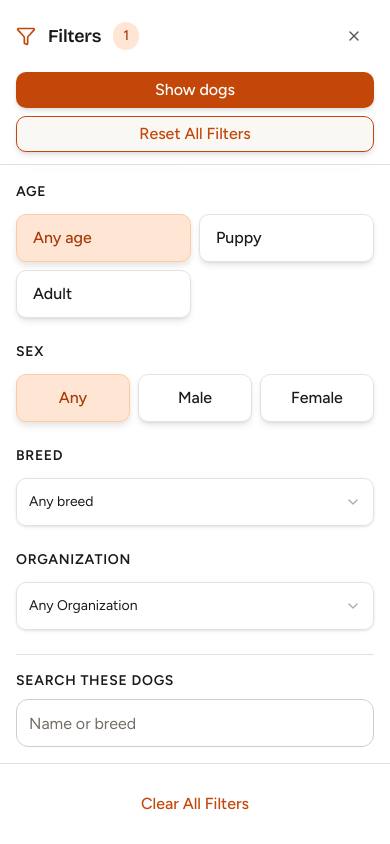
Test: MobileFilterDrawer Component › resetting drops a search that was still waiting to be sent
(page scrolled)
Type "bel" into the search field with test id "search-input" at (195, 723), box [16,699,374,747]
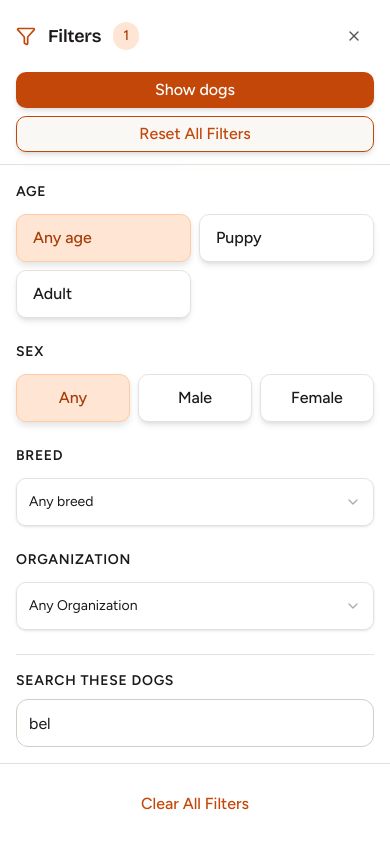
Click the button with test id "clear-all-filters" at (195, 804), box [16,780,374,828]
Wait 1000 ms
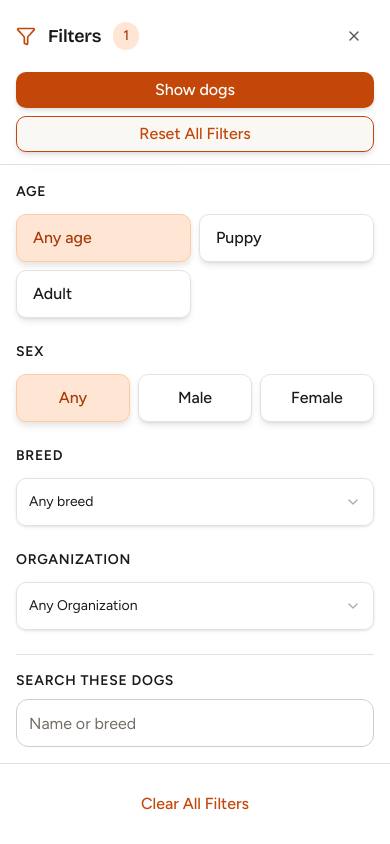
expect the search field with test id "search-input" is empty: met, box [16,699,374,747]
